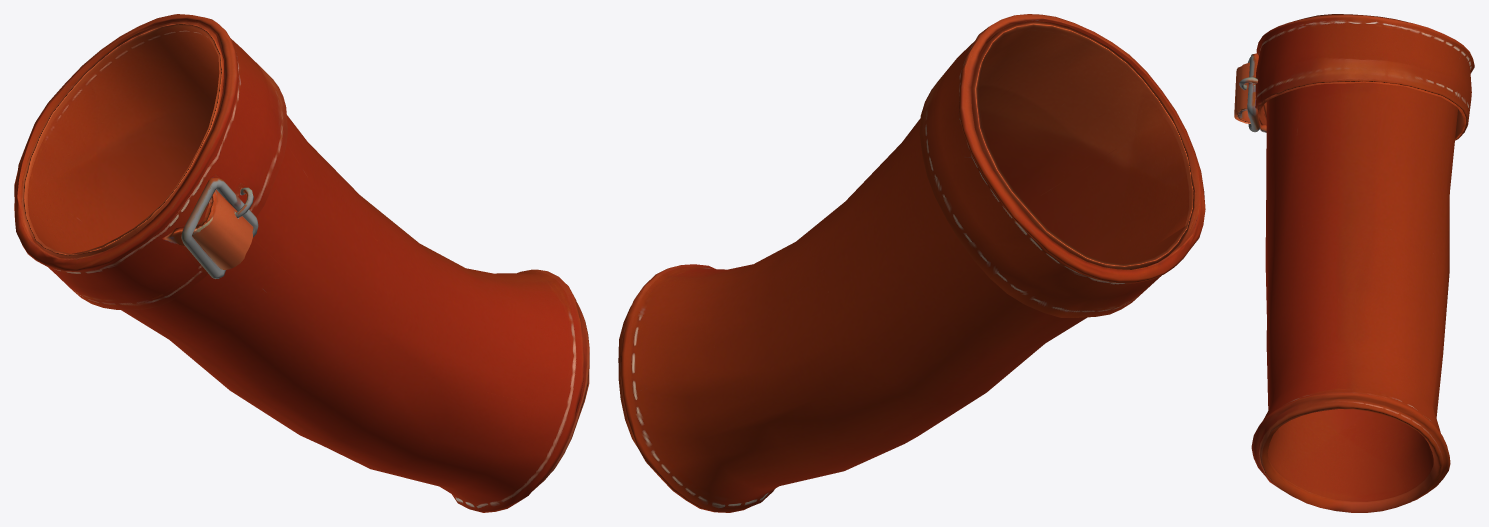
File: leather-bracer_refine.glb
3 views of the same model, side by side, from view 1: azimuth 30°, elevation 25°; view 2: azimuth 150°, elevation 25°; view 3: azimuth 270°, elevation 25° (orthographic). The views are drawn at different scales.
Bounding box in the file's own units: 0.9502 × 0.9238 × 0.4946.
Materials: 1 (1 with a texture image).
